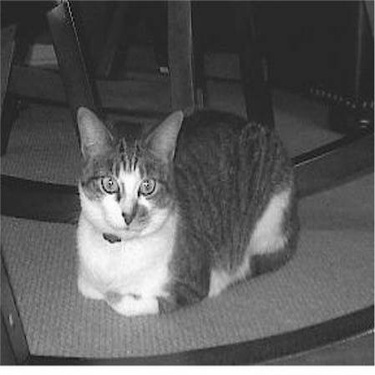cat: (73, 104, 300, 319)
